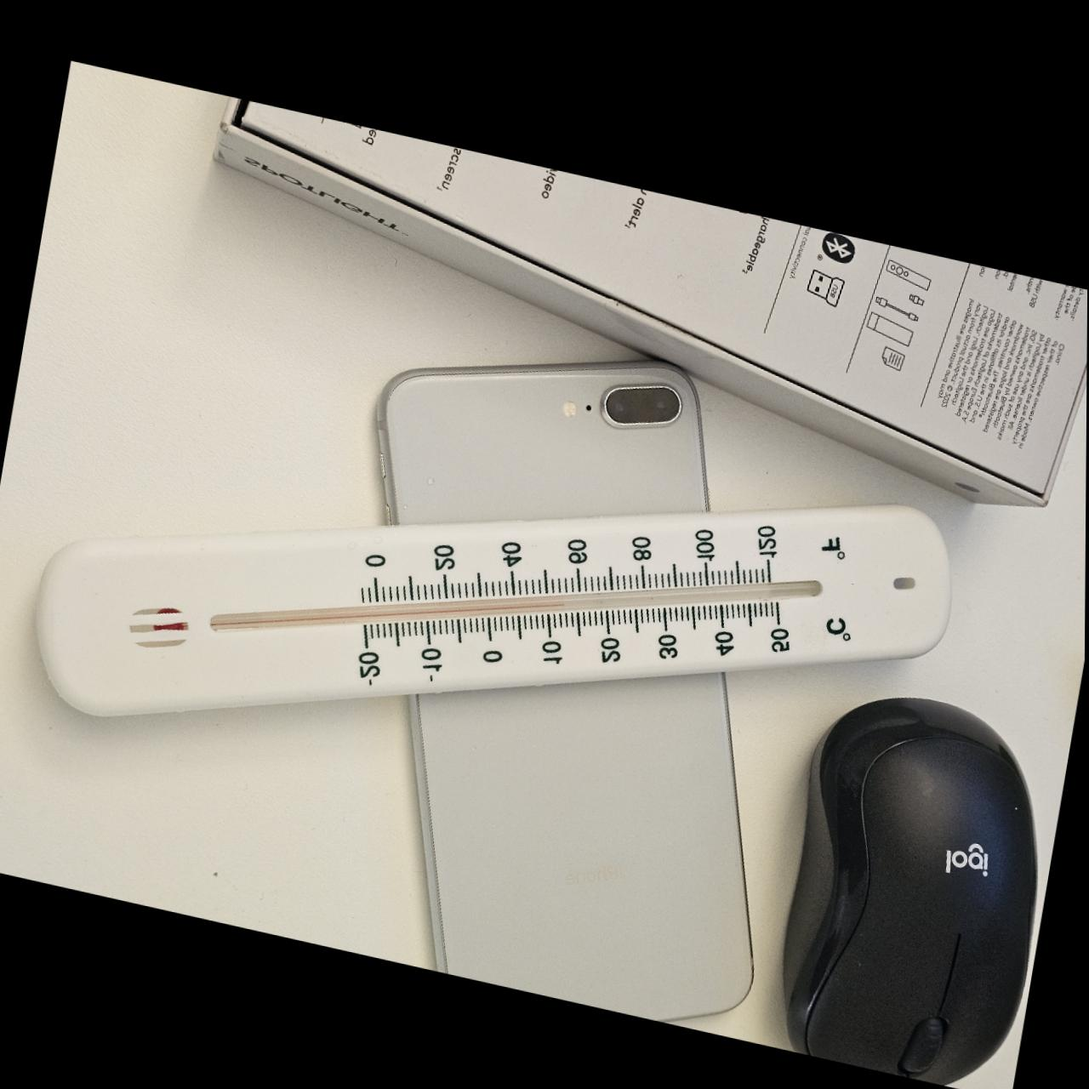thermometer: (15, 311, 974, 906)
